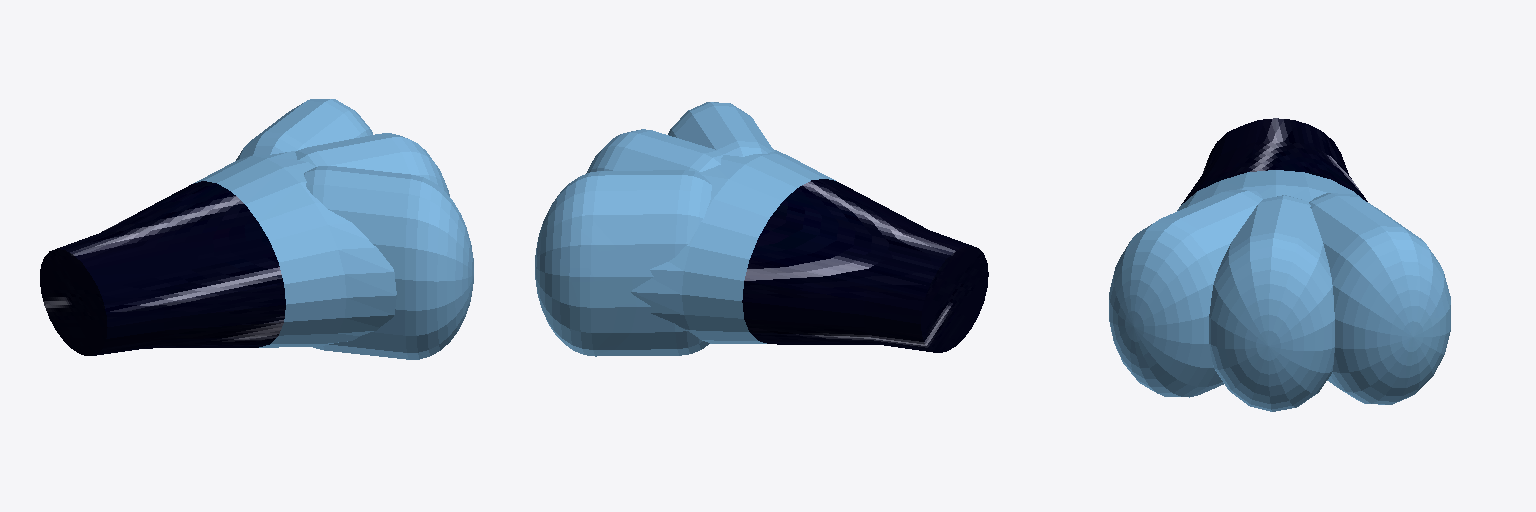
The picture shows the model from 3 angles: view 1: azimuth 30°, elevation 25°; view 2: azimuth 150°, elevation 25°; view 3: azimuth 270°, elevation 25°; orthographic projection.
Visible parts, largest first — view 1: Cone002; view 2: Cone002; view 3: Cone002.
Boxes of the visible parts, <box> form: Cone002: <box>40,99,473,359</box>; Cone002: <box>535,102,988,356</box>; Cone002: <box>1109,118,1450,411</box>.
Bounding box in the file's own units: 22.54 × 10.29 × 18.1.
Materials: 1 (1 with a texture image).